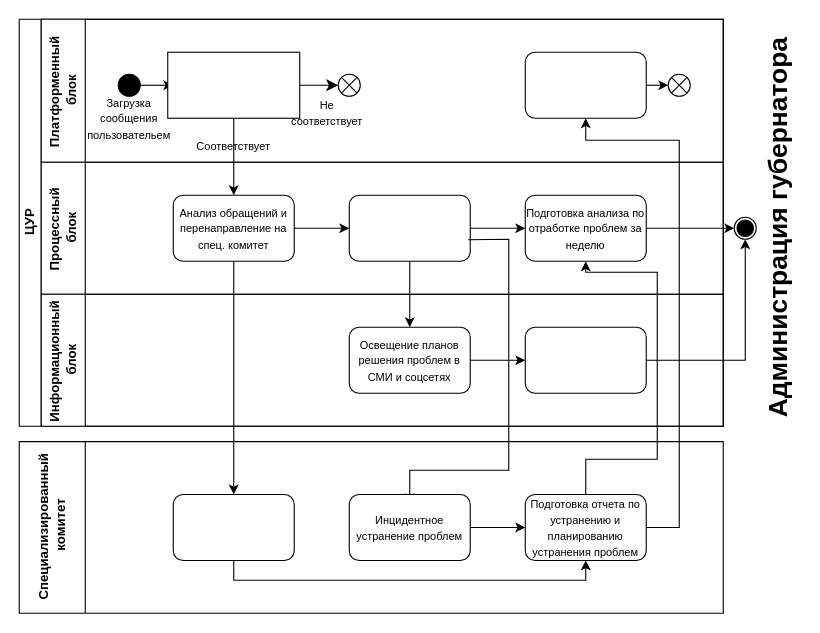
This 820x633 diagram has some shape labels left out. Here are the shapes that lost their labels. From the top down, the box of each, then its label:
(167, 51, 300, 118): Проверка сообщений на корректность и соответствие требованиям
(524, 51, 646, 118): Ответ пользователю по результатам работы с проблемой
(348, 194, 470, 261): Подготовка сводной справки по значимым проблемам за день
(524, 326, 646, 393): Предложения по выезду уполномоченных органов
(172, 493, 294, 560): Планирование мероприятий по устранению проблем
